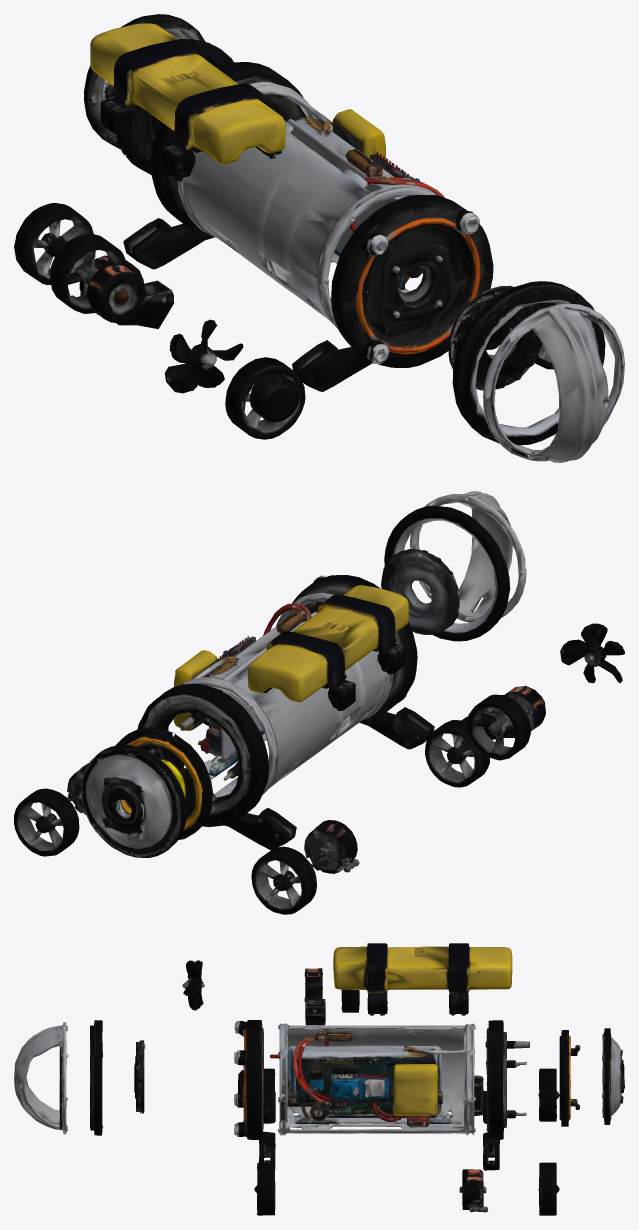
Rendered from robot-exploded.glb.
3 views of the same model, one above another, from view 1: azimuth 30°, elevation 25°; view 2: azimuth 150°, elevation 25°; view 3: azimuth 270°, elevation 25° (orthographic). The views are drawn at different scales.
Visible parts, largest first — view 1: tripo_node_24fe9a6a-5a70-41ac-814d-219605b58369; view 2: tripo_node_24fe9a6a-5a70-41ac-814d-219605b58369; view 3: tripo_node_24fe9a6a-5a70-41ac-814d-219605b58369.
Part boxes in pixels (<box>): tripo_node_24fe9a6a-5a70-41ac-814d-219605b58369: <box>14,14,624,462</box>; tripo_node_24fe9a6a-5a70-41ac-814d-219605b58369: <box>14,491,624,914</box>; tripo_node_24fe9a6a-5a70-41ac-814d-219605b58369: <box>14,943,624,1215</box>.
Bounding box in the file's own units: 0.508 × 0.2782 × 0.8532.
Materials: 1 (1 with a texture image).
